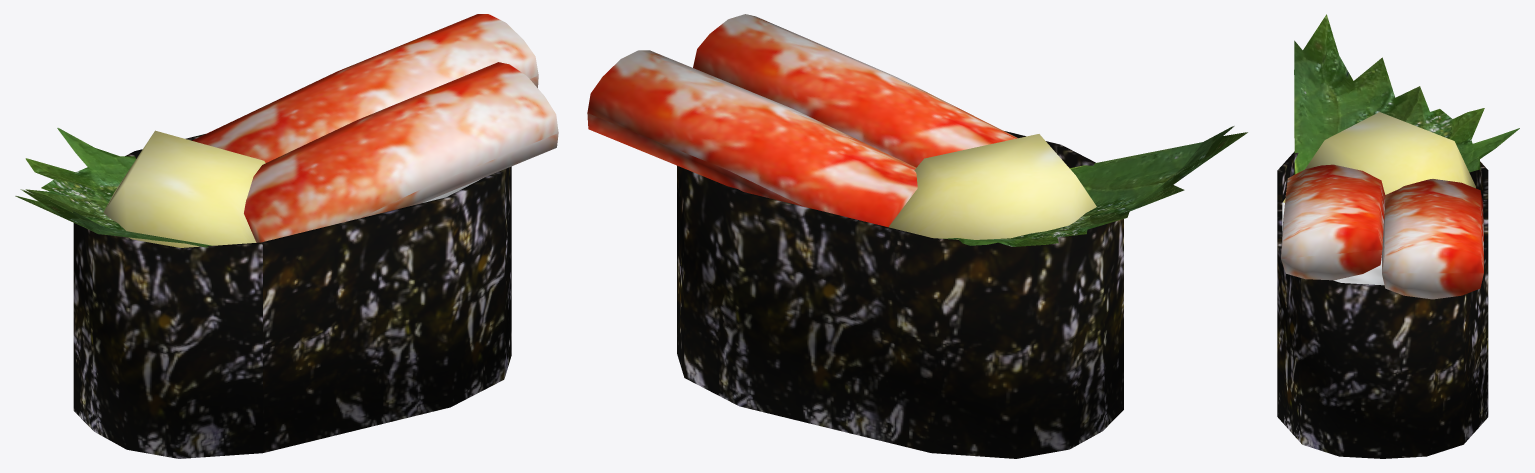
File: crab_4.fbx
3 views of the same model, side by side, from view 1: azimuth 30°, elevation 25°; view 2: azimuth 150°, elevation 25°; view 3: azimuth 270°, elevation 25° (orthographic). The views are drawn at different scales.
Parts seen in each view (by area): view 1: crab_4; view 2: crab_4; view 3: crab_4.
Boxes of the visible parts, bbox=[...] form: crab_4: bbox=[15, 14, 558, 458]; crab_4: bbox=[587, 14, 1247, 458]; crab_4: bbox=[1277, 14, 1519, 458].
Bounding box in the file's own units: 7.84 × 3.98 × 3.62.
